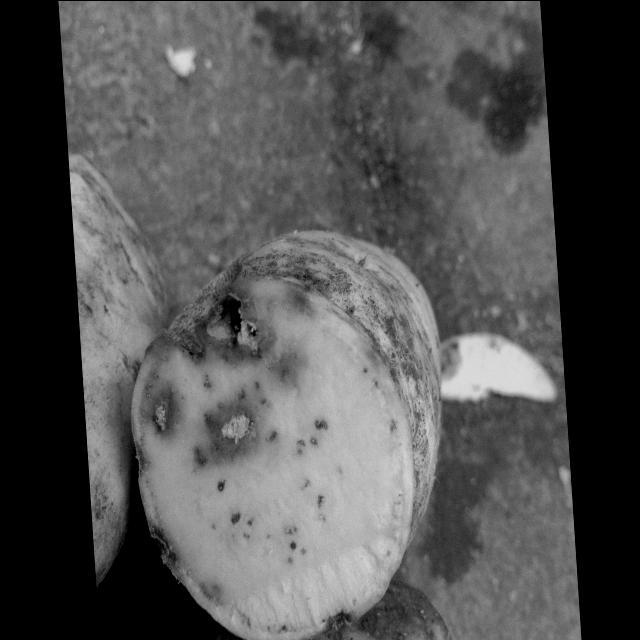Sick Sweet Potato_Tuber Rot: (131, 277, 414, 638)
